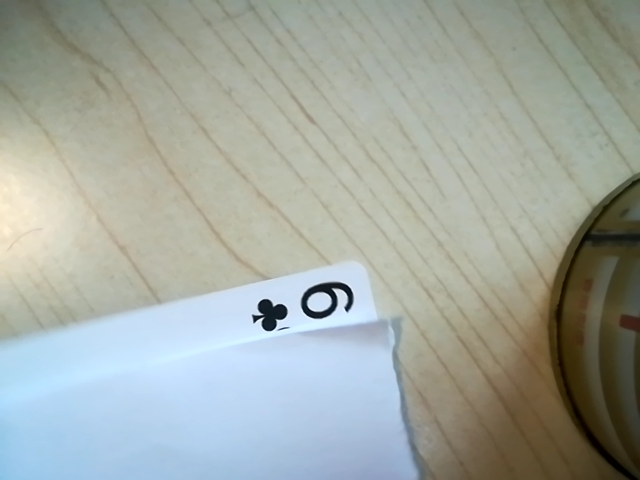mh 6: (241, 273, 373, 337)
